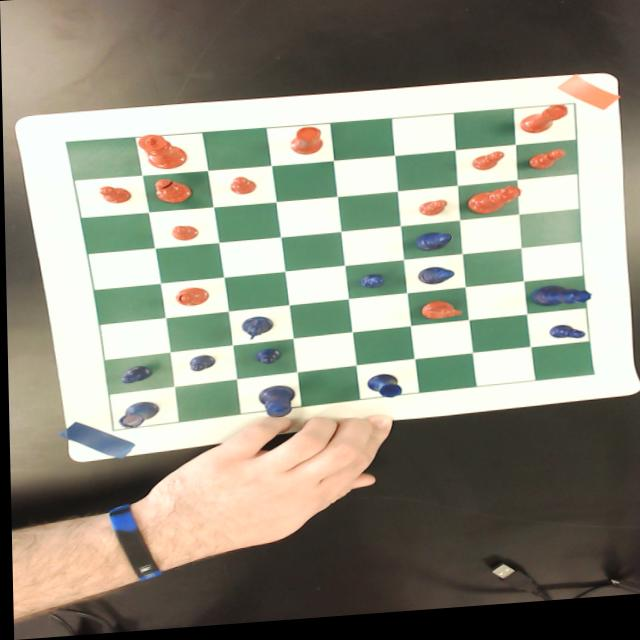B: (413, 236, 451, 259), (416, 271, 454, 292)
K: (256, 387, 295, 421)
N: (239, 319, 273, 343)
P: (547, 331, 586, 349), (118, 366, 152, 385), (187, 356, 215, 375), (253, 351, 281, 369), (358, 278, 384, 293)
Q: (529, 290, 592, 315)
R: (116, 401, 158, 430), (364, 377, 401, 404)
b: (152, 178, 192, 206), (174, 289, 209, 309)
k: (137, 134, 188, 173)
n: (419, 305, 460, 325)
p: (526, 156, 567, 179), (98, 185, 132, 206), (471, 158, 505, 178), (418, 205, 448, 223), (230, 178, 257, 198), (170, 226, 199, 243)
q: (464, 192, 522, 221)
r: (519, 111, 568, 142), (290, 129, 323, 159)
